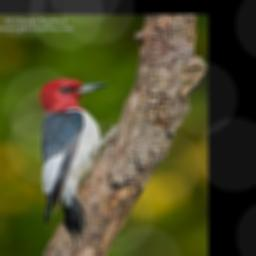Woodpecker: (33, 79, 122, 249)
